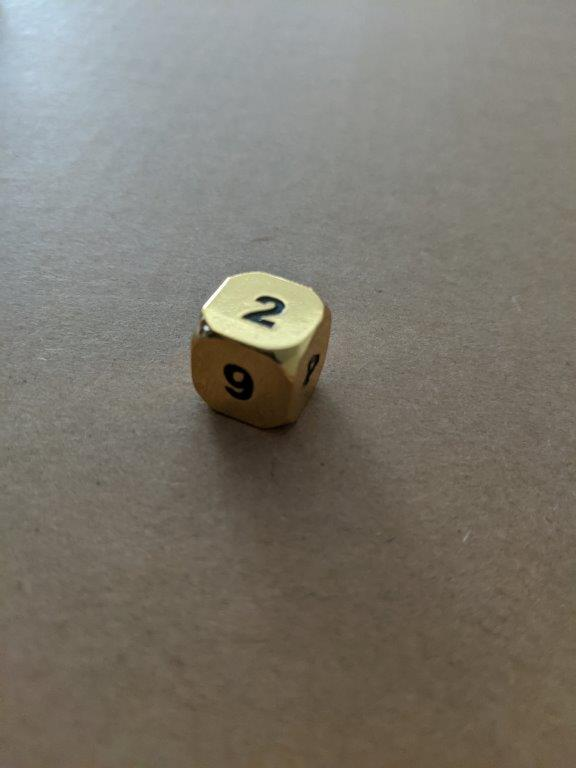d6-2: (191, 270, 332, 430)
